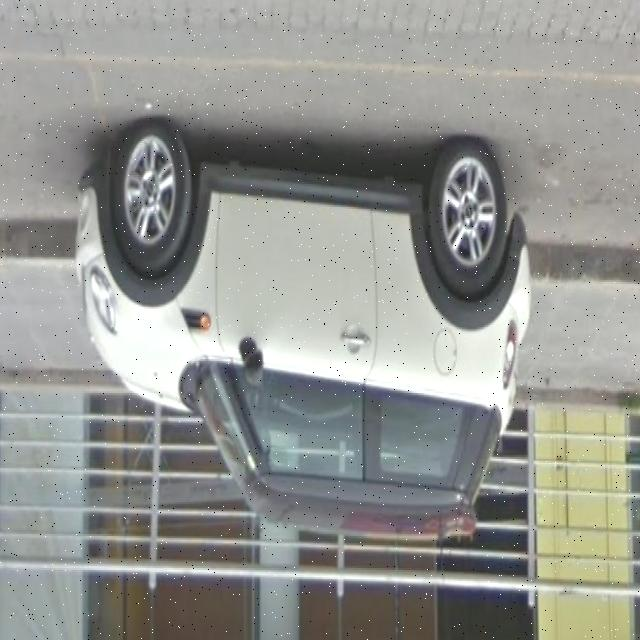car: (80, 114, 533, 548)
